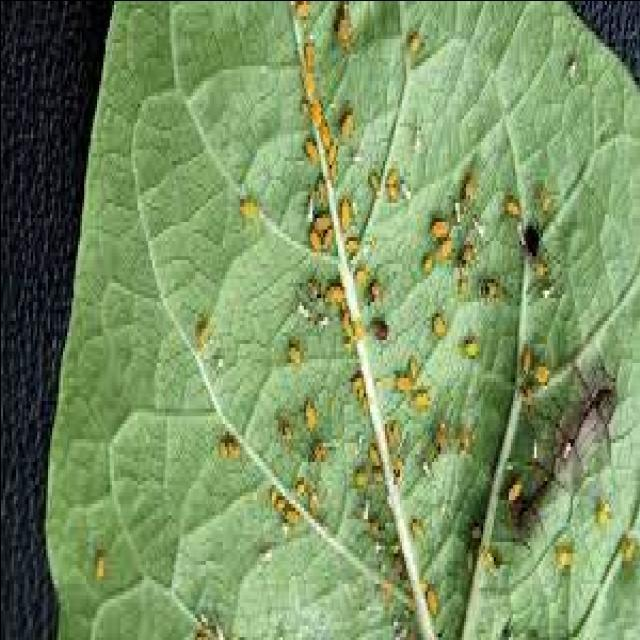aphid: (232, 187, 262, 240), (294, 129, 322, 183), (418, 579, 442, 636), (190, 308, 213, 366), (85, 544, 111, 594), (399, 22, 427, 68), (422, 308, 448, 354), (298, 224, 324, 270), (332, 106, 357, 152), (296, 64, 321, 110), (282, 335, 306, 381), (422, 214, 450, 252), (296, 396, 318, 442), (388, 370, 414, 408), (457, 336, 482, 374), (320, 278, 344, 316), (360, 442, 384, 480), (335, 194, 352, 244), (408, 385, 433, 419), (414, 252, 436, 290), (348, 461, 370, 499), (277, 503, 299, 541), (350, 259, 369, 301), (264, 496, 290, 526), (382, 183, 404, 217), (382, 160, 401, 194), (262, 480, 278, 518), (290, 4, 312, 30), (346, 369, 362, 404)
